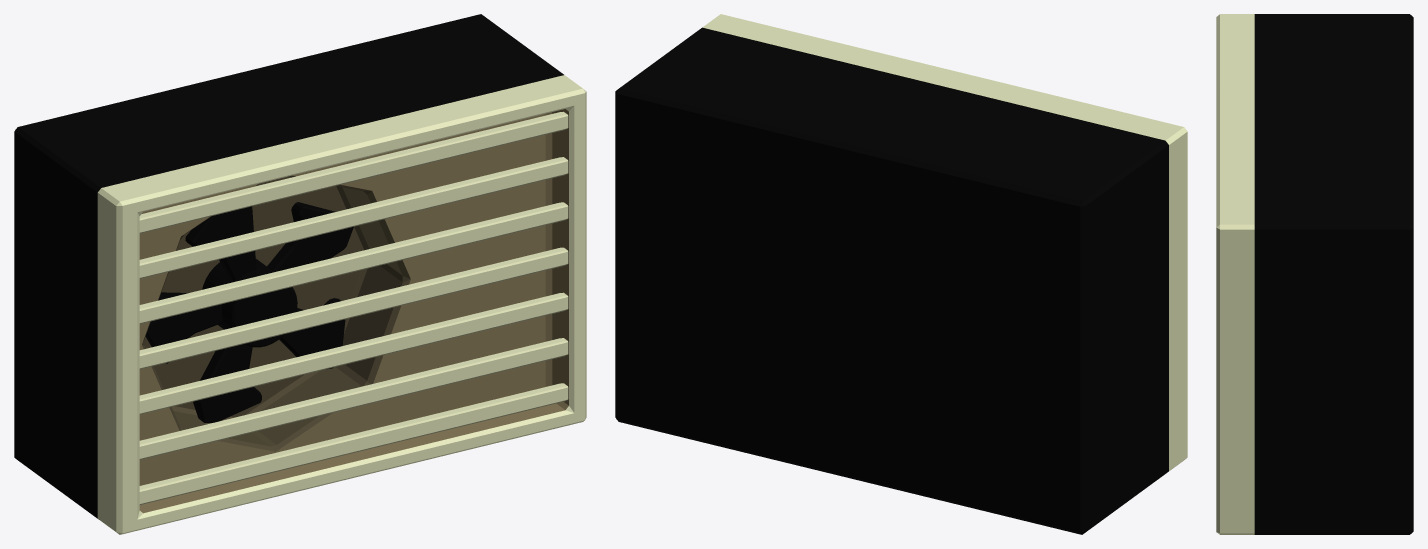
File: Air Con.fbx
The picture shows the model from 3 angles, left to right: view 1: azimuth 30°, elevation 25°; view 2: azimuth 150°, elevation 25°; view 3: azimuth 270°, elevation 25°; orthographic projection. The views are drawn at different scales.
Parts seen in each view (by area): view 1: Cube.001, Cylinder; view 2: Cube.001; view 3: Cube.001.
Boxes of the visible parts, x1,y1,x2,y2 form: Cube.001: (14,14,586,534); Cylinder: (145,202,353,422); Cube.001: (615,14,1187,534); Cube.001: (1216,14,1413,534).
Size of the model in its own units: 1052 by 713 by 411.
